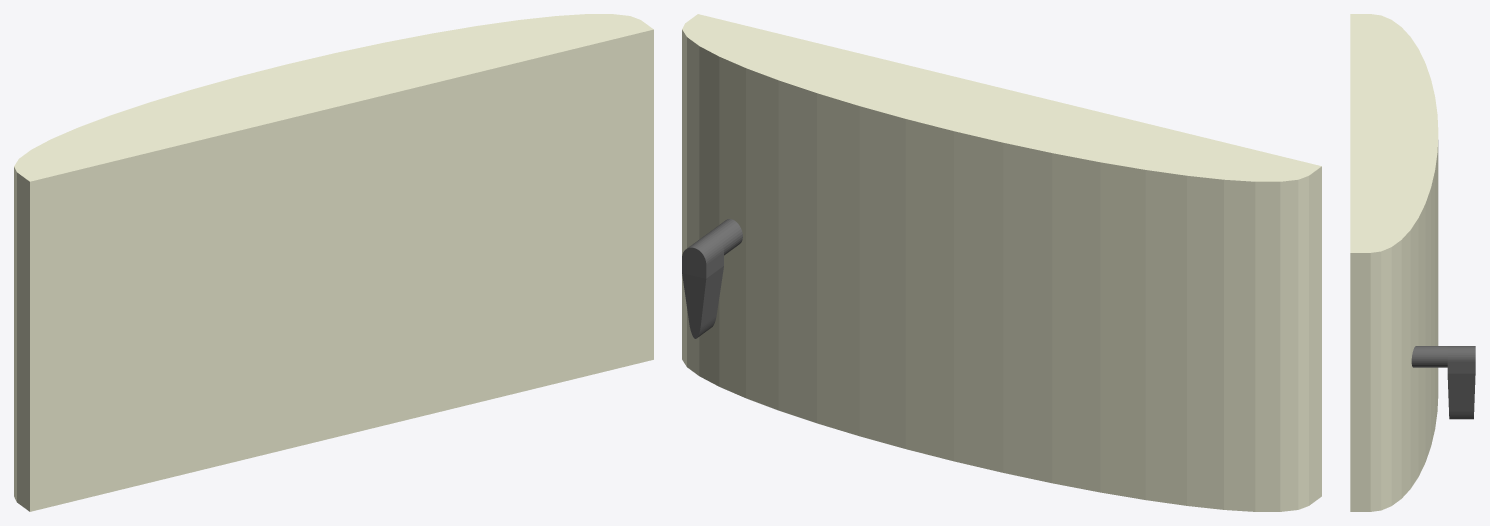
File: refri_puerta.obj
3 renders of one model, left to right at view 1: azimuth 30°, elevation 25°; view 2: azimuth 150°, elevation 25°; view 3: azimuth 270°, elevation 25°, orthographic. The views are drawn at different scales.
Visible parts, largest first — view 1: puerta_Cube.017; view 2: puerta_Cube.017, manija_Cylinder.006; view 3: puerta_Cube.017, manija_Cylinder.006.
Part boxes in pixels (x1,y1,x2,y2): puerta_Cube.017: (14,14,653,511); puerta_Cube.017: (682,14,1321,511); manija_Cylinder.006: (682,219,742,338); puerta_Cube.017: (1350,14,1438,511); manija_Cylinder.006: (1411,346,1475,419).
Size of the model in its own units: 3.67 by 1.86 by 0.8135.
Materials: 2 (2 with a texture image).
